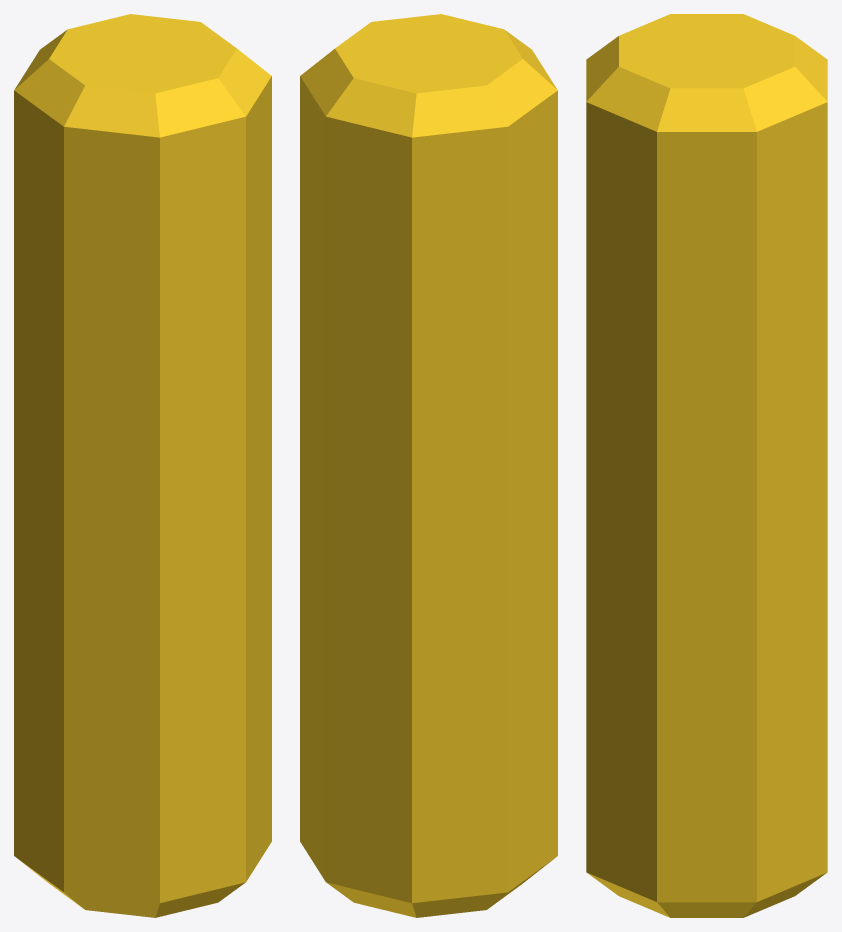
The model's file is Spacer14.fbx.
3 renders of one model, left to right at view 1: azimuth 30°, elevation 25°; view 2: azimuth 150°, elevation 25°; view 3: azimuth 270°, elevation 25°, orthographic.
Parts seen in each view (by area): view 1: Spacer14; view 2: Spacer14; view 3: Spacer14.
Boxes of the visible parts, x1,y1,x2,y2 form: Spacer14: (14, 14, 271, 917); Spacer14: (300, 14, 557, 917); Spacer14: (586, 14, 827, 917).
Size of the model in its own units: 0.3696 by 1.4 by 0.3696.
